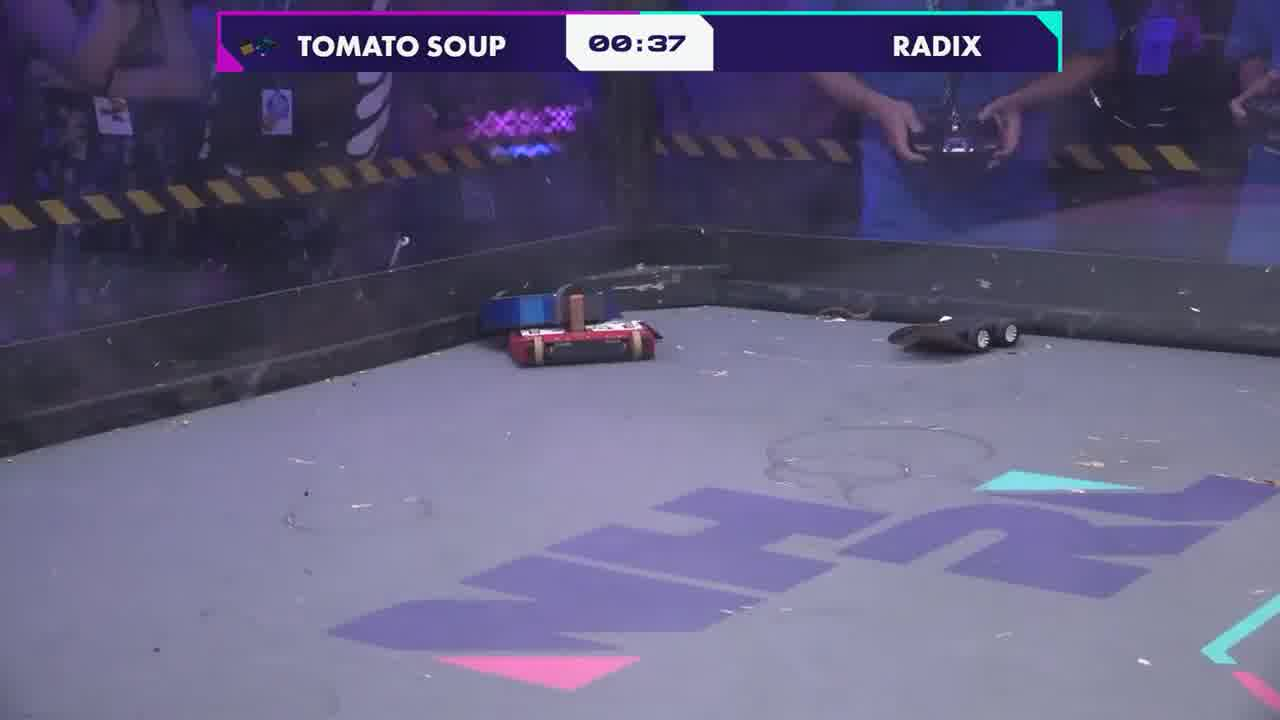combatbot: (504, 322, 662, 368), (483, 292, 615, 327)
minibot: (889, 316, 1022, 357)
